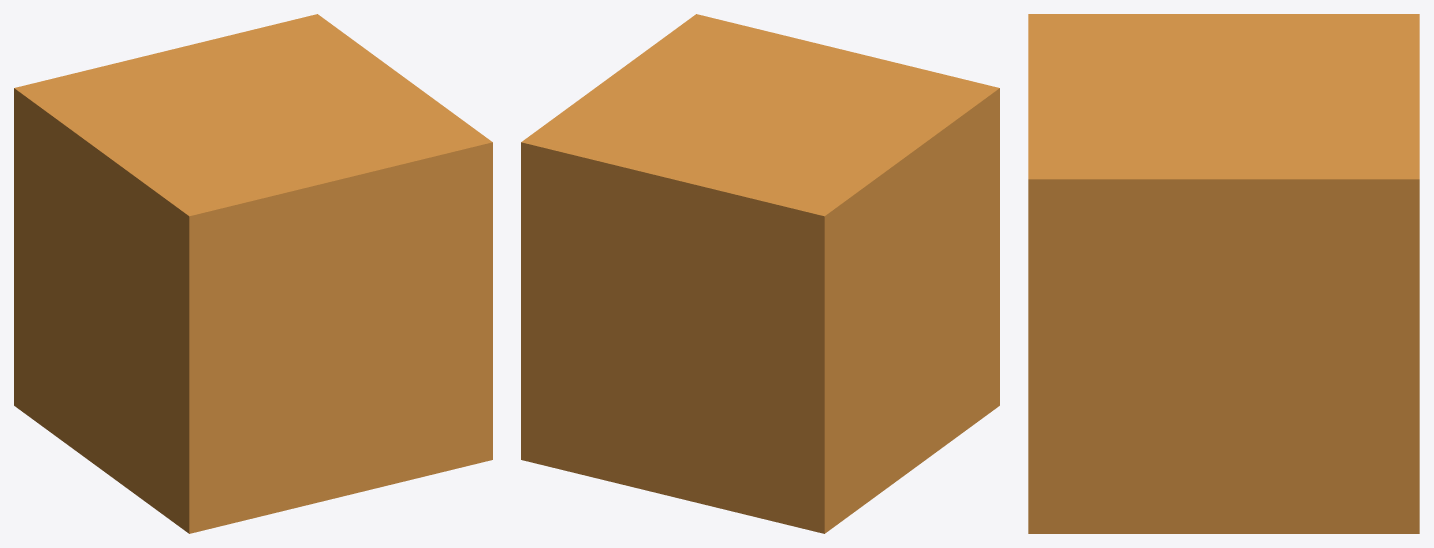
The model's file is cube__vertex.glb.
3 renders of one model, left to right at view 1: azimuth 30°, elevation 25°; view 2: azimuth 150°, elevation 25°; view 3: azimuth 270°, elevation 25°, orthographic. The views are drawn at different scales.
Visible parts, largest first — view 1: Cube; view 2: Cube; view 3: Cube.
Part boxes in pixels (left/top/right/bottom): Cube: left=14, top=14, right=492, bottom=533; Cube: left=521, top=14, right=999, bottom=533; Cube: left=1028, top=14, right=1419, bottom=533.
Size of the model in its own units: 0.6 by 0.6 by 0.6.
